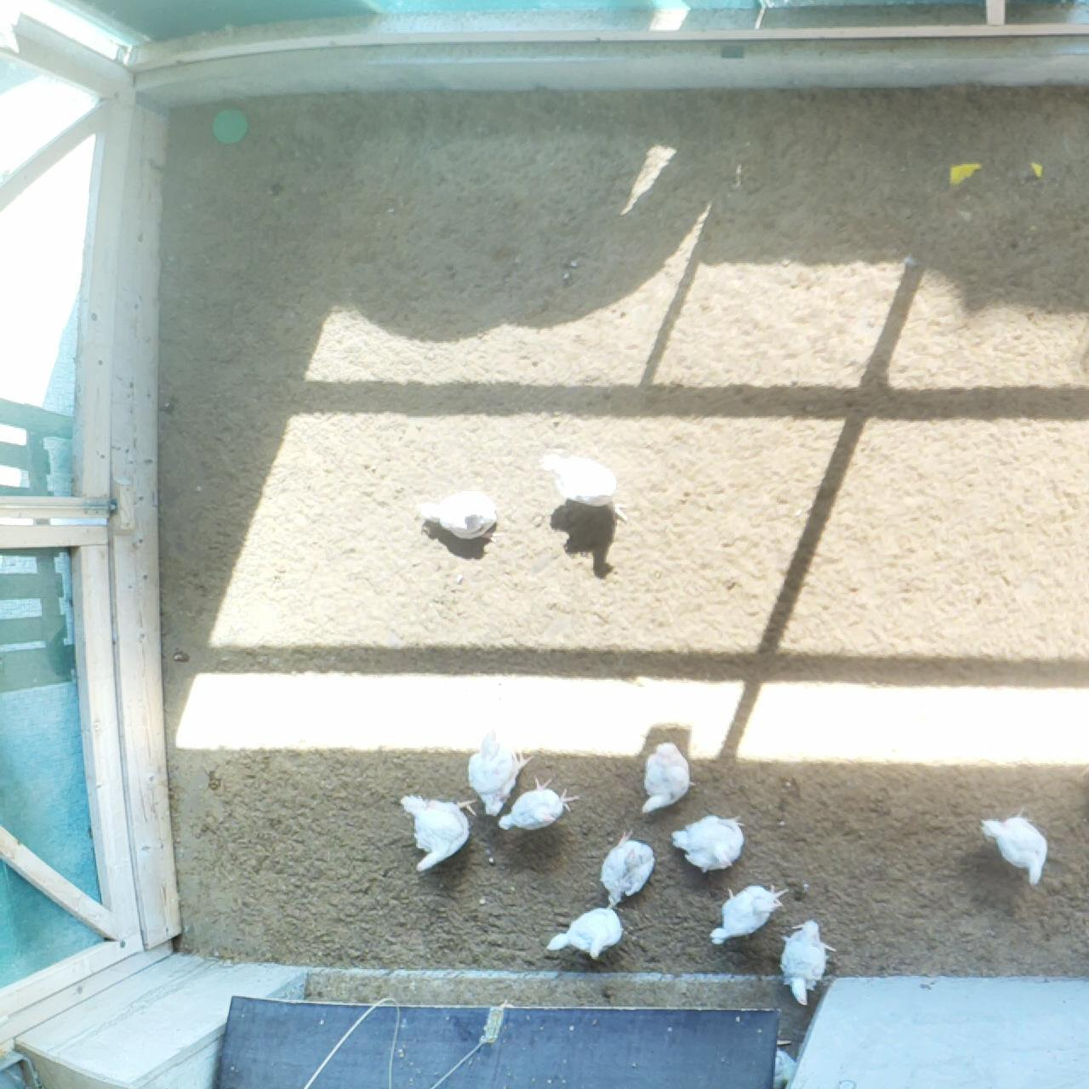chicken: (457, 722, 532, 822), (396, 786, 471, 884), (533, 910, 641, 971), (987, 810, 1057, 901), (415, 484, 509, 546), (770, 919, 834, 1008), (485, 774, 576, 836), (665, 815, 762, 873), (702, 886, 788, 951), (545, 445, 617, 519), (591, 833, 658, 906), (636, 737, 694, 818), (763, 1041, 805, 1089)
